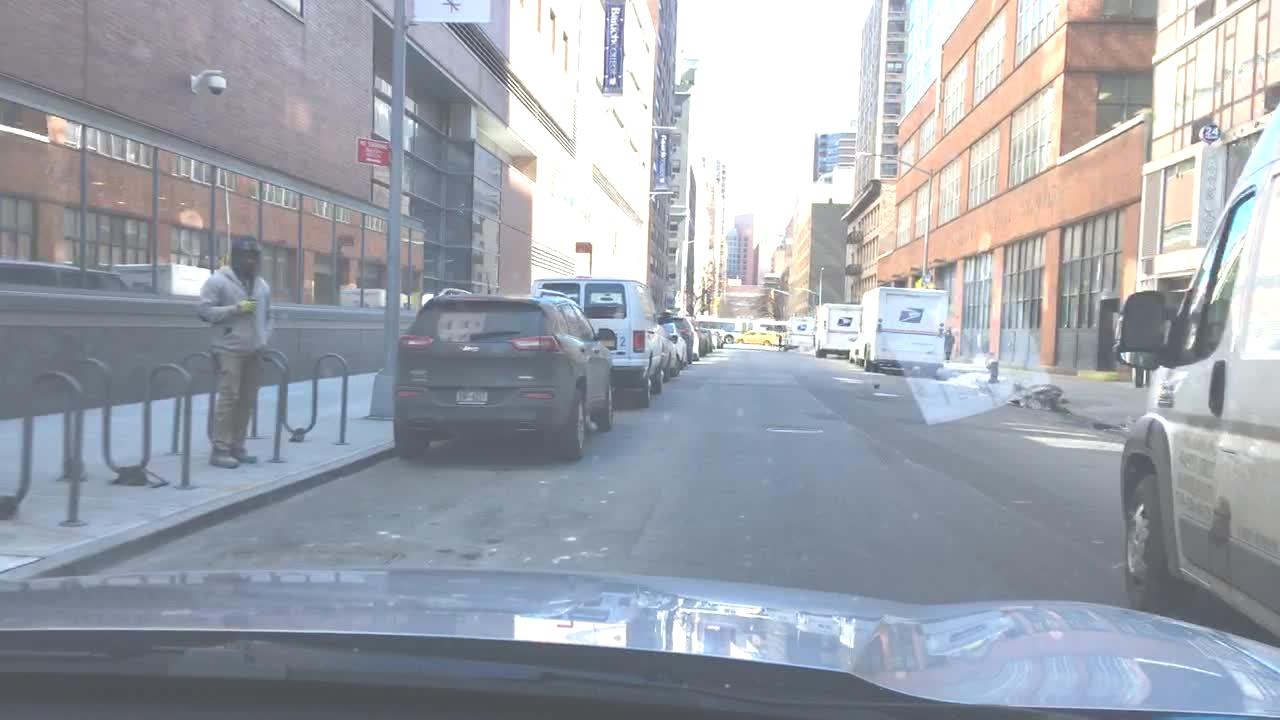jeep: (460, 344, 483, 356)
